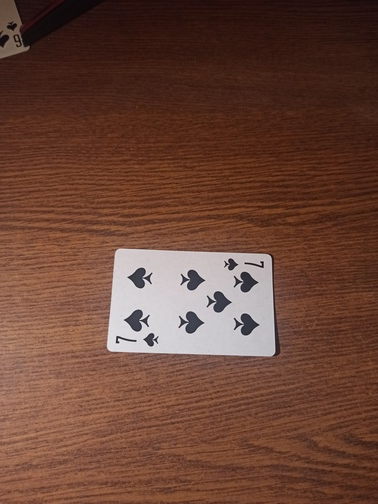sevenspades: (107, 248, 278, 361)
